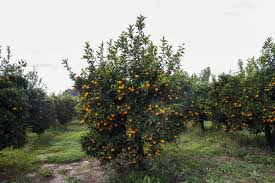orange: (144, 84, 150, 89), (117, 81, 123, 86)
